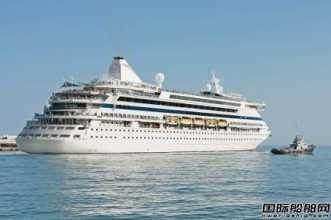youlun: (13, 57, 269, 153)
